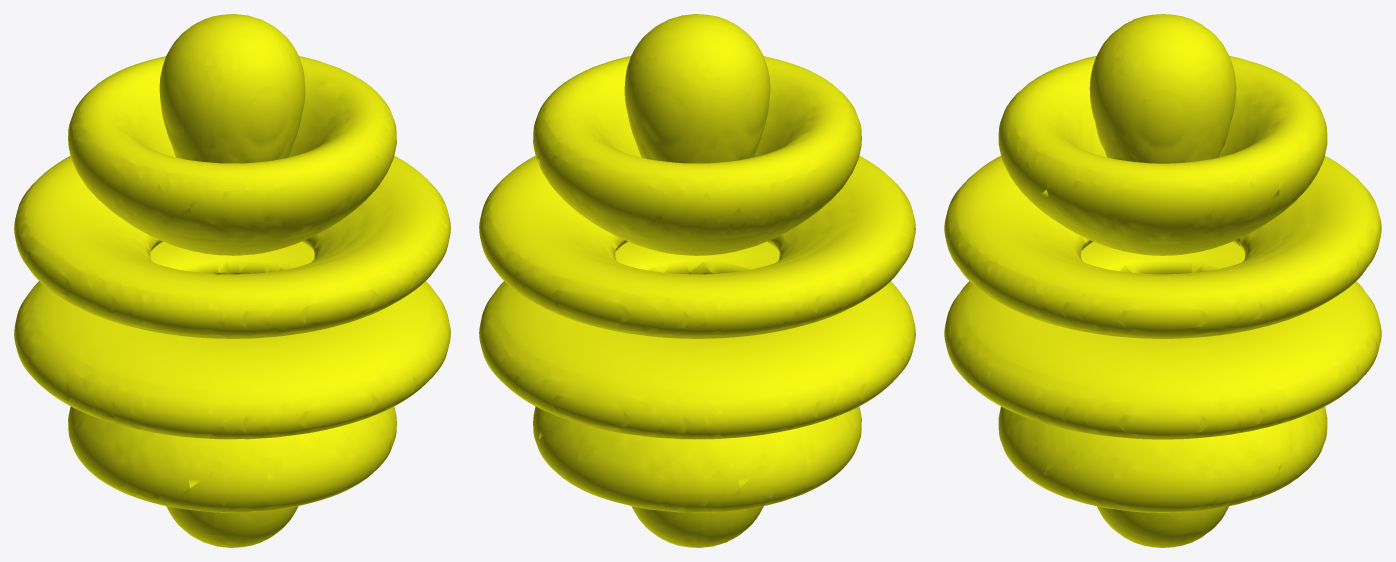
The model's file is orb_n=6_ l=5 _m=0.fbx.
3 views of the same model, side by side, from view 1: azimuth 30°, elevation 25°; view 2: azimuth 150°, elevation 25°; view 3: azimuth 270°, elevation 25° (orthographic).
Visible parts, largest first — view 1: orb_n=6_ l=5 _m=0; view 2: orb_n=6_ l=5 _m=0; view 3: orb_n=6_ l=5 _m=0.
Part boxes in pixels (x1=…): orb_n=6_ l=5 _m=0: x1=14, y1=14, x2=450, y2=547; orb_n=6_ l=5 _m=0: x1=479, y1=14, x2=915, y2=547; orb_n=6_ l=5 _m=0: x1=944, y1=14, x2=1381, y2=547.
Size of the model in its own units: 10833 by 14210 by 10833.
